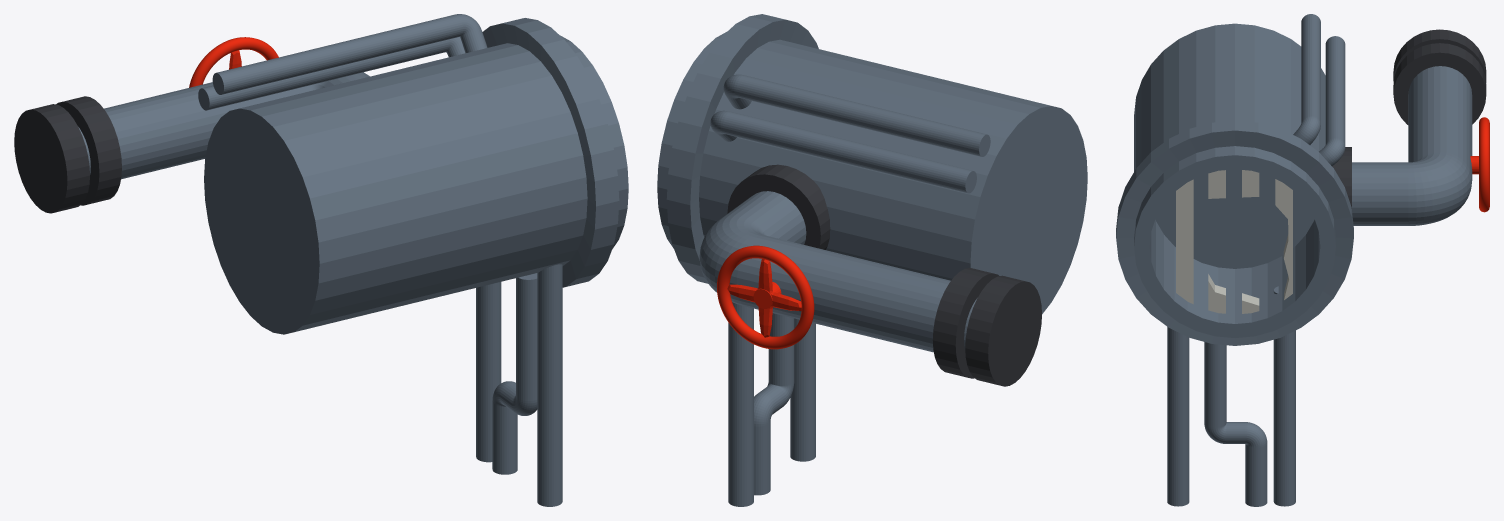
Rendered from Tunel_new_1.fbx.
3 views of the same model, side by side, from view 1: azimuth 30°, elevation 25°; view 2: azimuth 150°, elevation 25°; view 3: azimuth 270°, elevation 25° (orthographic). The views are drawn at different scales.
Parts seen in each view (by area): view 1: Cylinder, Cylinder.006, Cylinder.001, Cylinder.002, Cylinder.003, Cylinder.004, Cylinder.007; view 2: Cylinder, Cylinder.006, Cylinder.001, Cylinder.007, Cylinder.004, Cylinder.003, Cylinder.002; view 3: Cylinder, Cylinder.006, Cube.004, Cylinder.003, Cylinder.002, Cylinder.004, Cylinder.007, Cylinder.001.
Part boxes in pixels (x1,y1,x2,y2): Cylinder: (204, 18, 628, 334); Cylinder.006: (14, 37, 369, 213); Cylinder.001: (212, 14, 487, 94); Cylinder.002: (537, 264, 562, 506); Cylinder.003: (492, 273, 537, 474); Cylinder.004: (476, 282, 501, 462); Cylinder.007: (198, 37, 465, 110); Cylinder: (657, 14, 1087, 314); Cylinder.006: (699, 164, 1041, 386); Cylinder.001: (723, 74, 990, 156); Cylinder.007: (710, 110, 976, 193); Cylinder.004: (728, 302, 753, 506); Cylinder.003: (754, 313, 794, 495); Cylinder.002: (790, 318, 815, 461); Cylinder: (1116, 23, 1353, 345); Cylinder.006: (1332, 29, 1489, 225); Cube.004: (1176, 170, 1292, 313); Cylinder.003: (1204, 342, 1267, 506); Cylinder.002: (1167, 327, 1189, 506); Cylinder.004: (1273, 286, 1295, 506); Cylinder.007: (1319, 36, 1345, 166); Cylinder.001: (1293, 14, 1320, 144).
Bounding box in the file's own units: 412 × 422 × 370.
